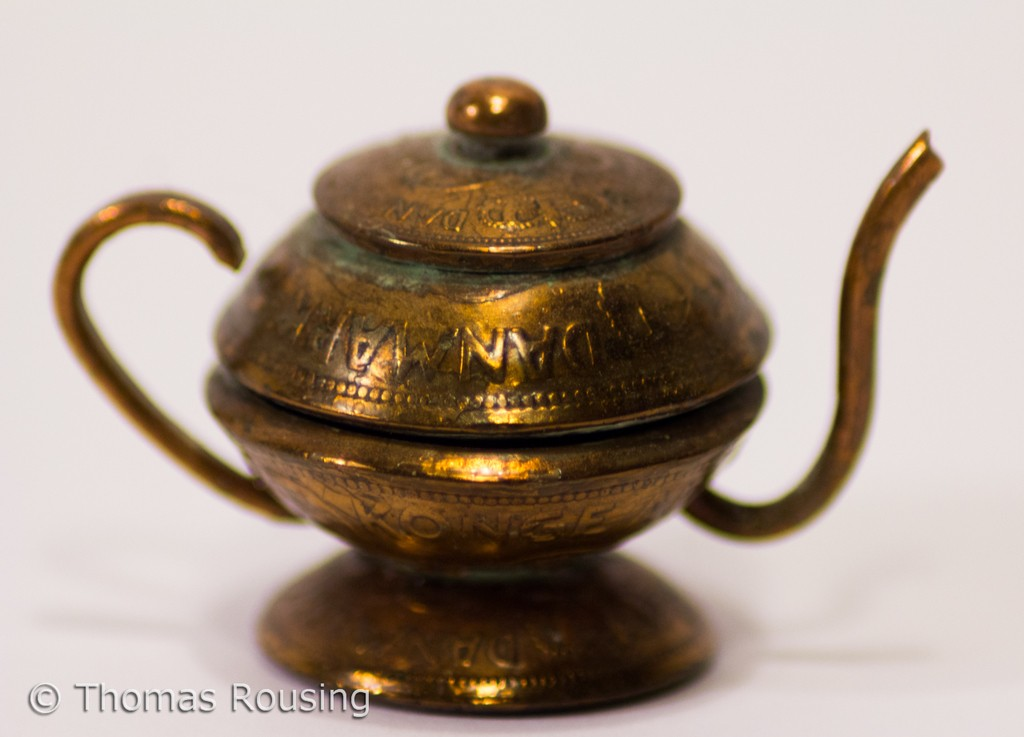teapot: (53, 76, 944, 707)
